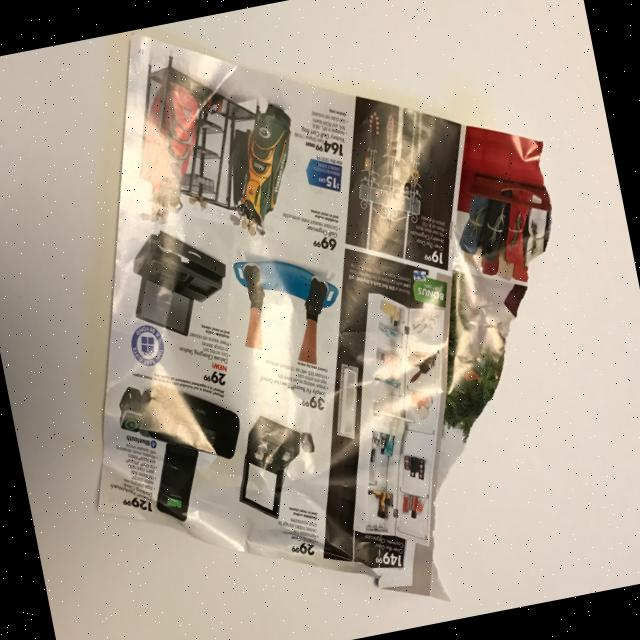paper: (6, 0, 628, 640)
